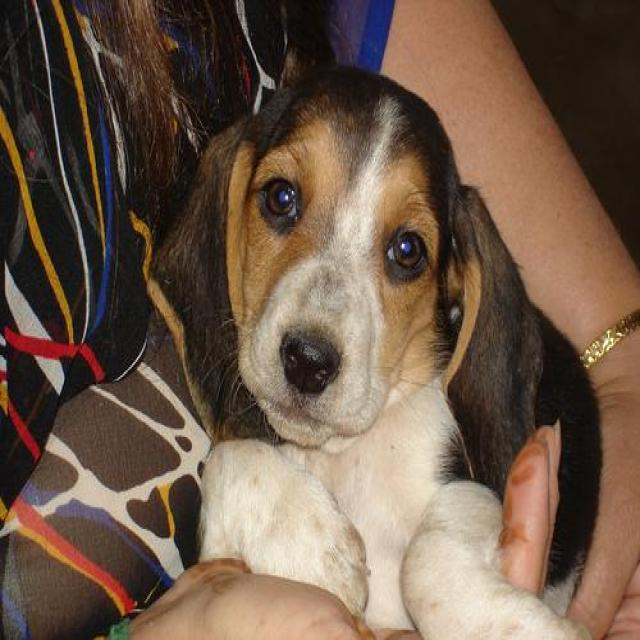basset: (144, 58, 600, 637)
